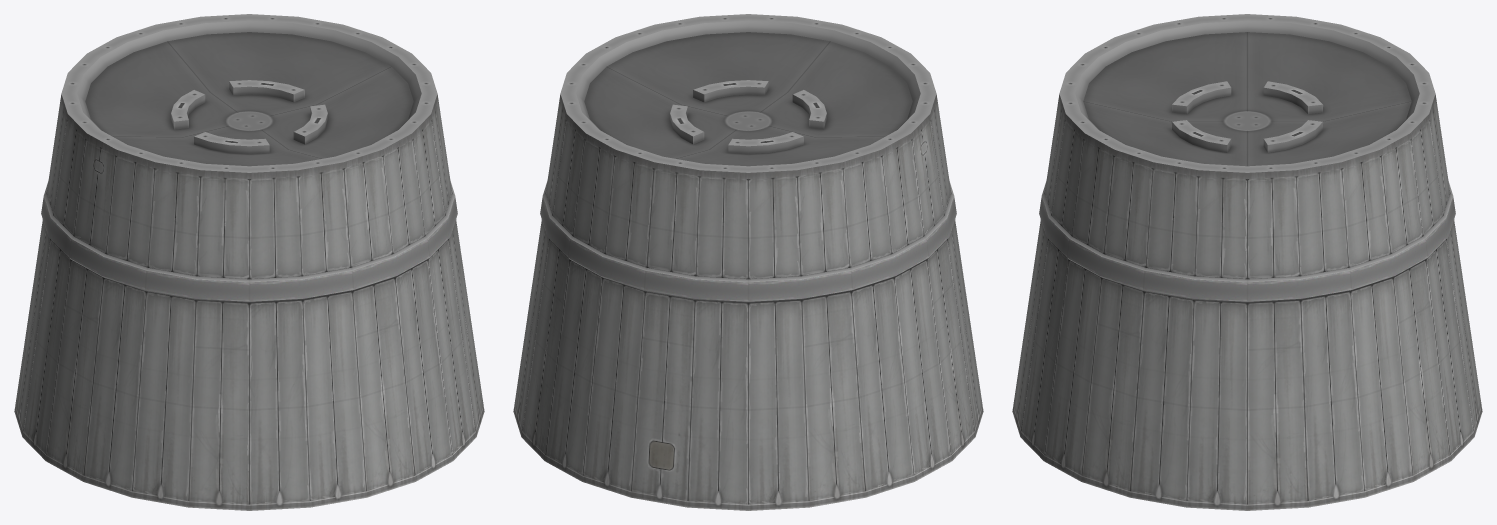
File: leo_SM.dae
3 views of the same model, side by side, from view 1: azimuth 30°, elevation 25°; view 2: azimuth 150°, elevation 25°; view 3: azimuth 270°, elevation 25° (orthographic).
Parts seen in each view (by area): view 1: Gemini_Service_A_Gemini_Service_A_Gemini_Service_A_auv; view 2: Gemini_Service_A_Gemini_Service_A_Gemini_Service_A_auv; view 3: Gemini_Service_A_Gemini_Service_A_Gemini_Service_A_auv.
Part boxes in pixels (left/top/right/bottom): Gemini_Service_A_Gemini_Service_A_Gemini_Service_A_auv: left=14, top=14, right=484, bottom=510; Gemini_Service_A_Gemini_Service_A_Gemini_Service_A_auv: left=513, top=14, right=983, bottom=510; Gemini_Service_A_Gemini_Service_A_Gemini_Service_A_auv: left=1012, top=14, right=1482, bottom=510.
Size of the model in its own units: 1.88 by 1.4 by 1.88.
